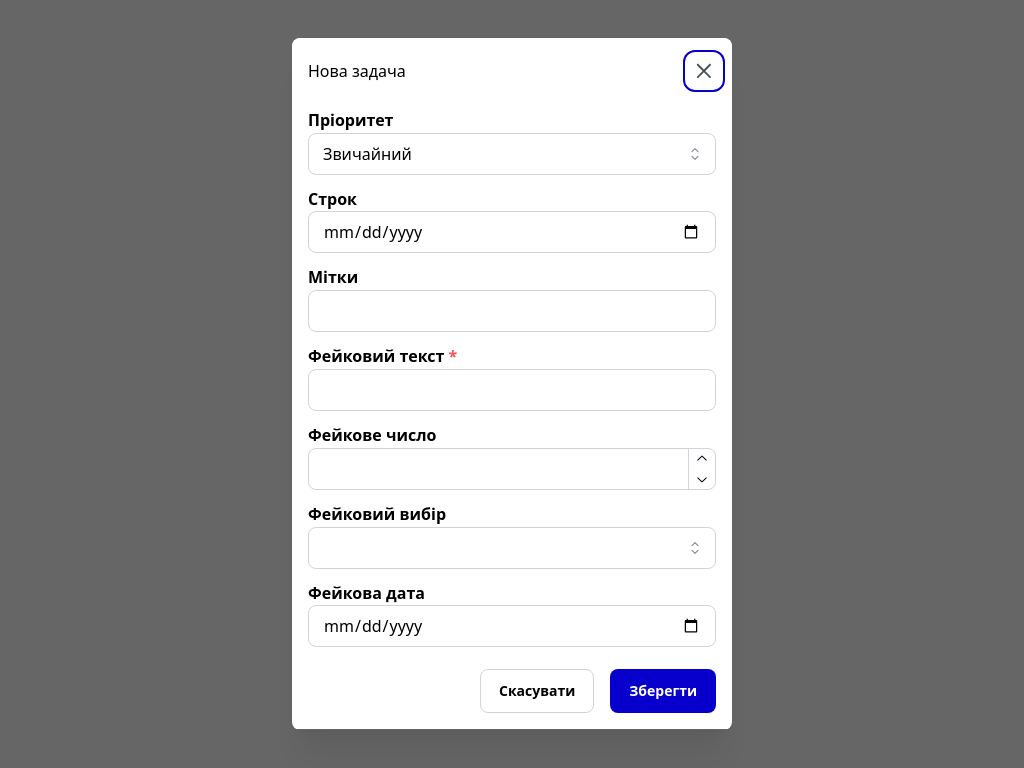
Scenario: TaskFormModal › renders custom fields by type and blocks submit on invalid values
This screenshot has width=1024, height=768.
(page scrolled)
Expected: the field labelled "Фейковий текст *" is shown, [308,369,716,411]
Expected: the field labelled "Фейкове число" is shown, [308,448,716,490]
Step 1. Click the button "Зберегти" → coordinates (663, 691), box [610,669,716,713]
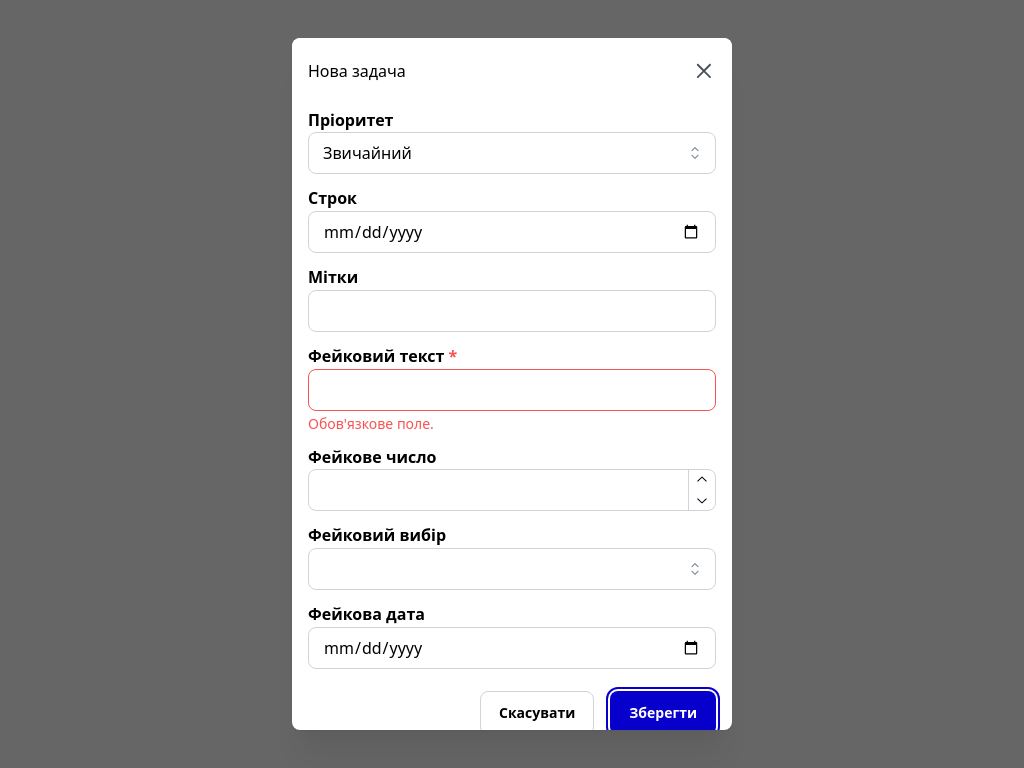
Result: the text "Обов'язкове поле." is shown at [308,414,434,433]
